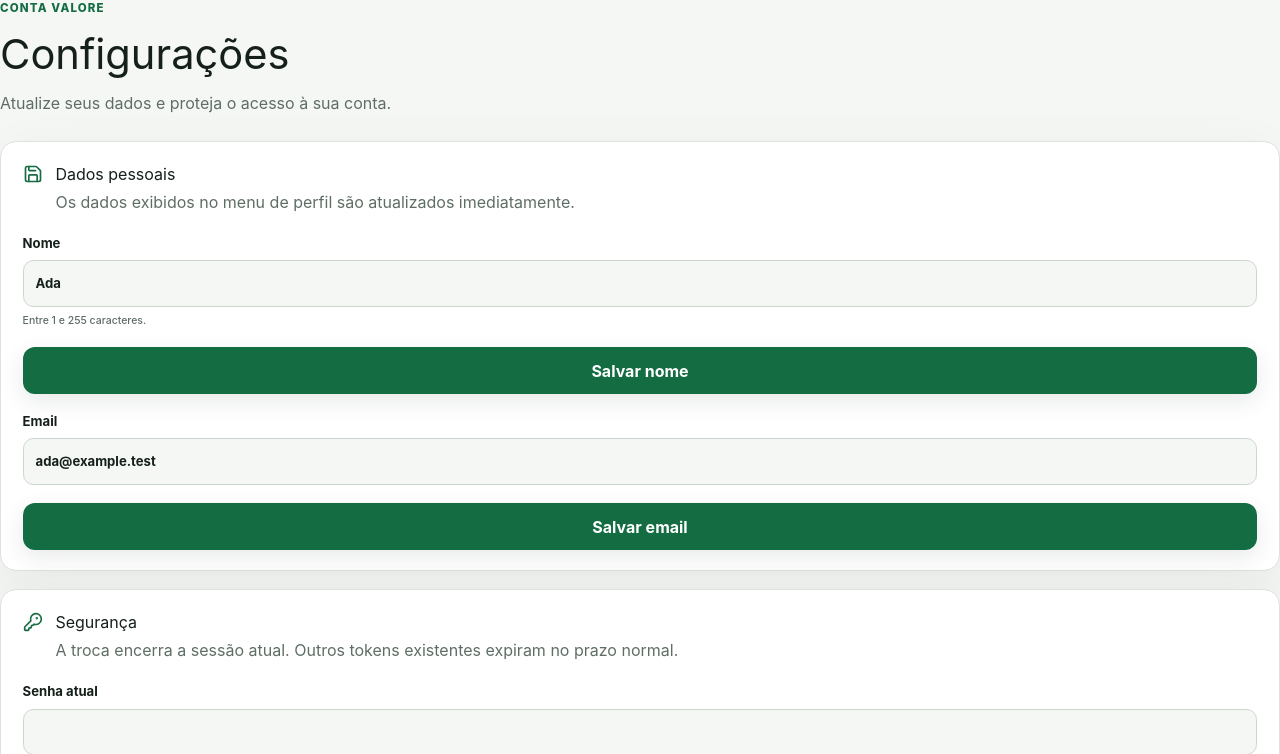
configurações da conta › traduz email duplicado e senha atual incorreta
The width and height of the screenshot is (1280, 754).
Click the button "Salvar email" at (640, 527), box [23,503,1257,550]
(page scrolled)
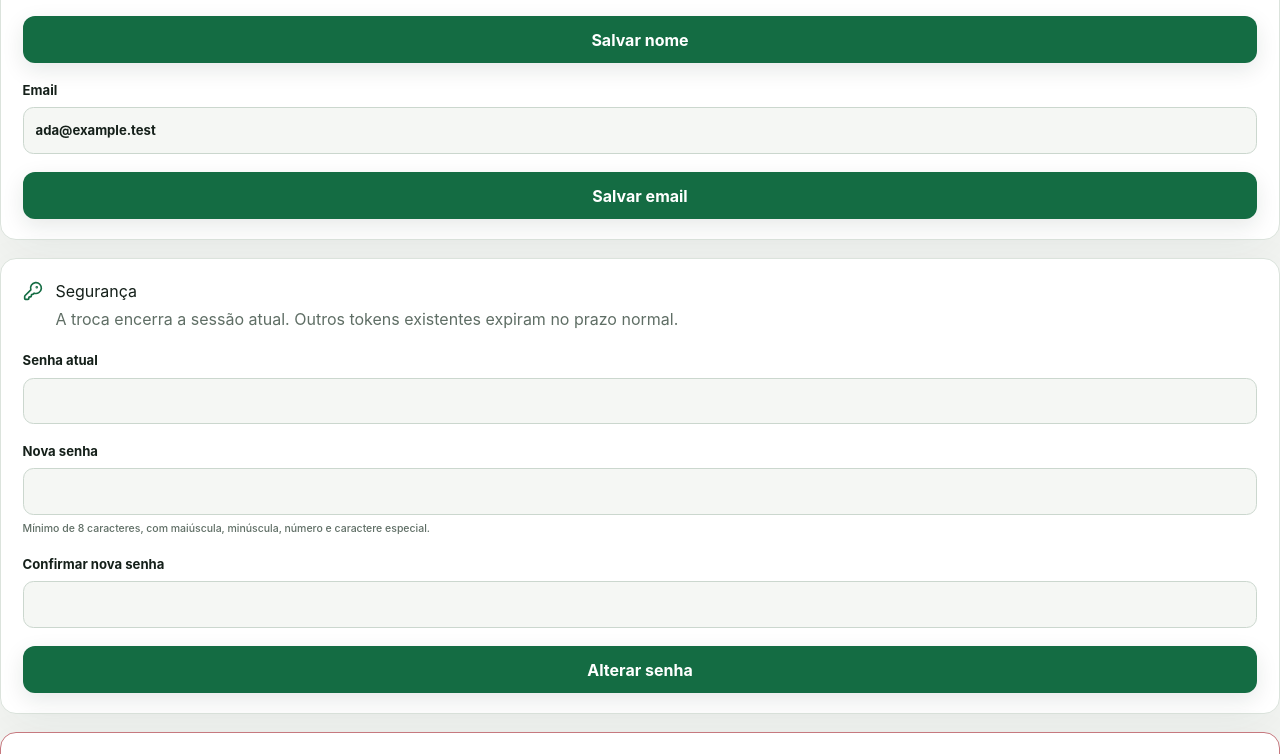
Type "Errada123!" into the password field labelled "Senha atual" at (640, 401), box [23,378,1257,424]
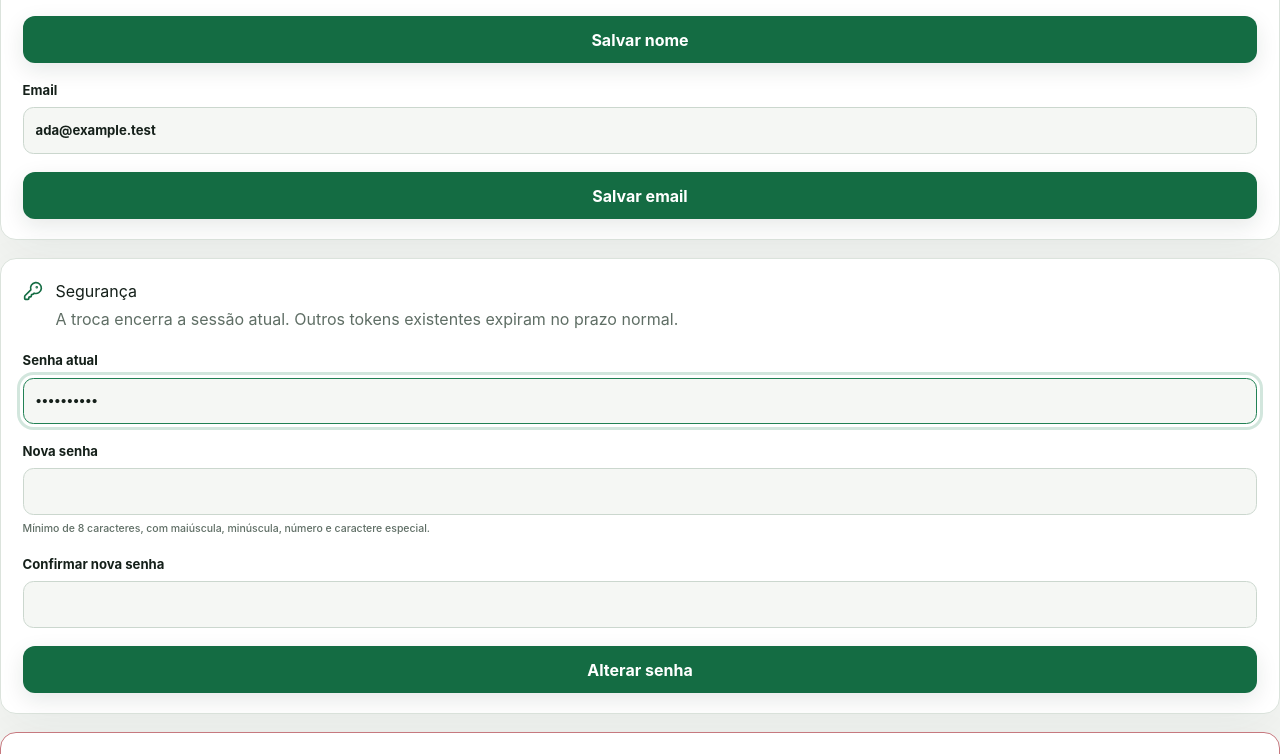
Type "NovaSenha123!" into the password field labelled "Nova senha" at (640, 492), box [23,468,1257,515]
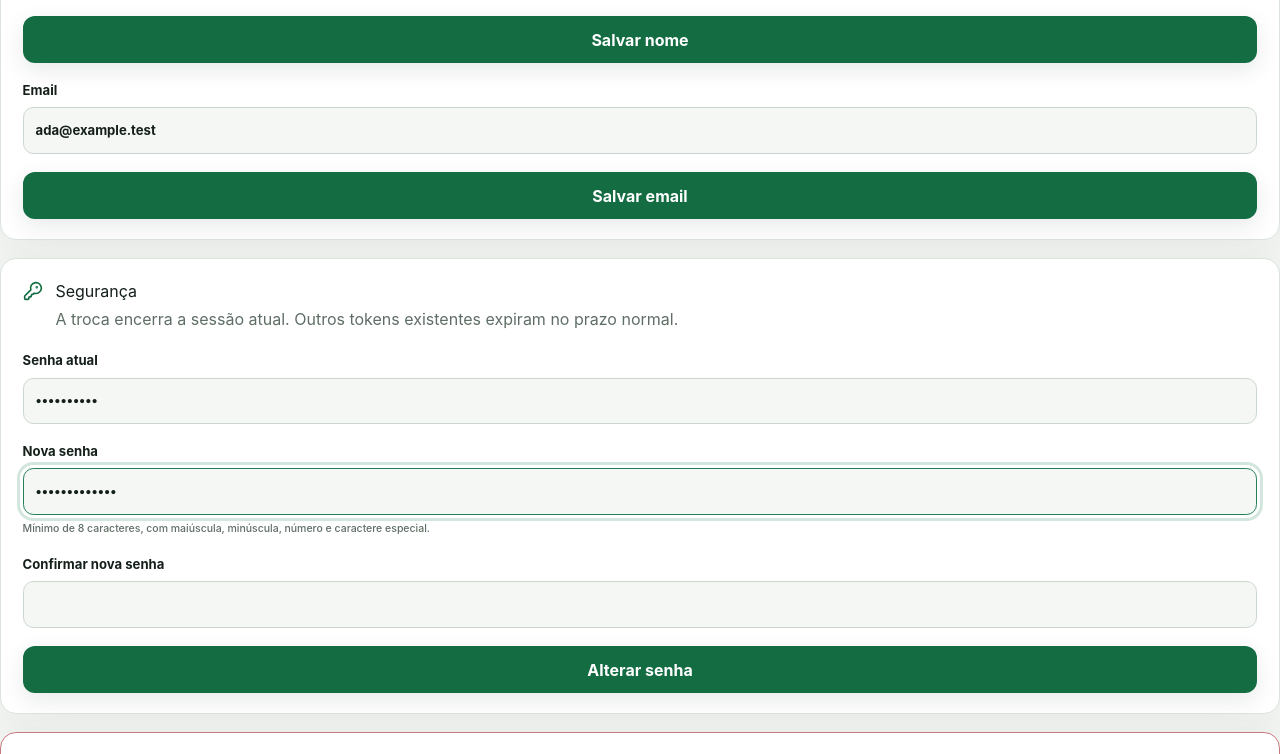
Type "NovaSenha123!" into the password field labelled "Confirmar nova senha" at (640, 605), box [23,581,1257,628]
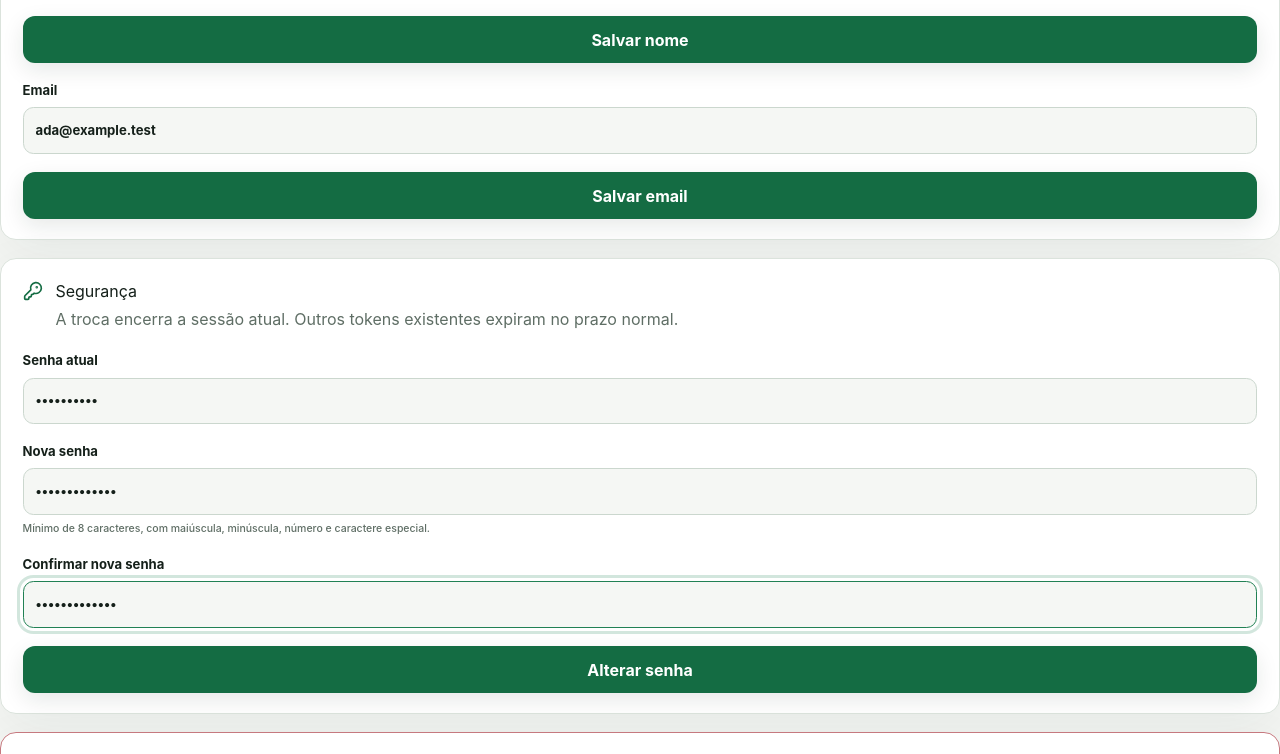
Click the button "Alterar senha" at (640, 670), box [23,646,1257,693]
(page scrolled)
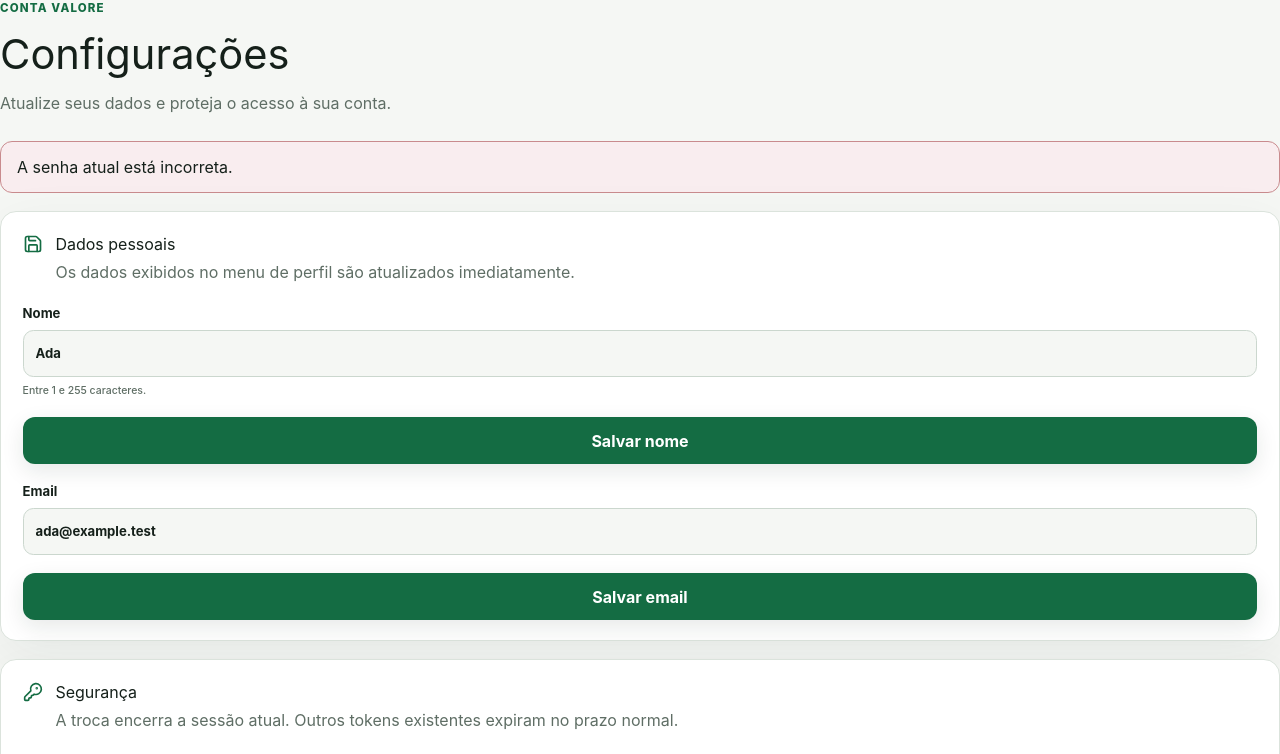
Now the message reads "A senha atual está incorreta.", box [17,157,233,177]
